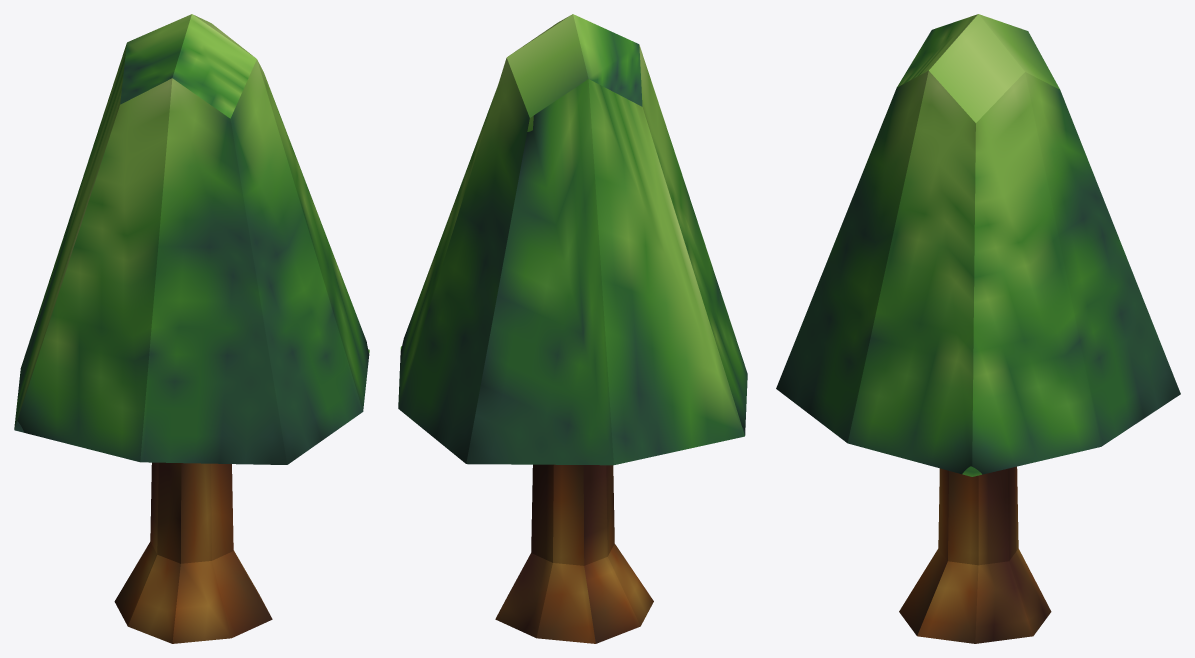
File: Poly_World_Map_Land_Tree_02_Single.obj
3 renders of one model, left to right at view 1: azimuth 30°, elevation 25°; view 2: azimuth 150°, elevation 25°; view 3: azimuth 270°, elevation 25°, orthographic.
Parts seen in each view (by area): view 1: Cube.004_Cube.045, Cube.005_Cube.046; view 2: Cube.004_Cube.045, Cube.005_Cube.046; view 3: Cube.004_Cube.045, Cube.005_Cube.046.
Part boxes in pixels (bbox=[...]): Cube.004_Cube.045: bbox=[14, 14, 369, 464]; Cube.005_Cube.046: bbox=[114, 462, 272, 643]; Cube.004_Cube.045: bbox=[398, 14, 747, 465]; Cube.005_Cube.046: bbox=[495, 464, 653, 643]; Cube.004_Cube.045: bbox=[776, 14, 1180, 476]; Cube.005_Cube.046: bbox=[899, 466, 1051, 643].
Size of the model in its own units: 0.4251 by 0.6923 by 0.4251.
Materials: 1 (1 with a texture image).
